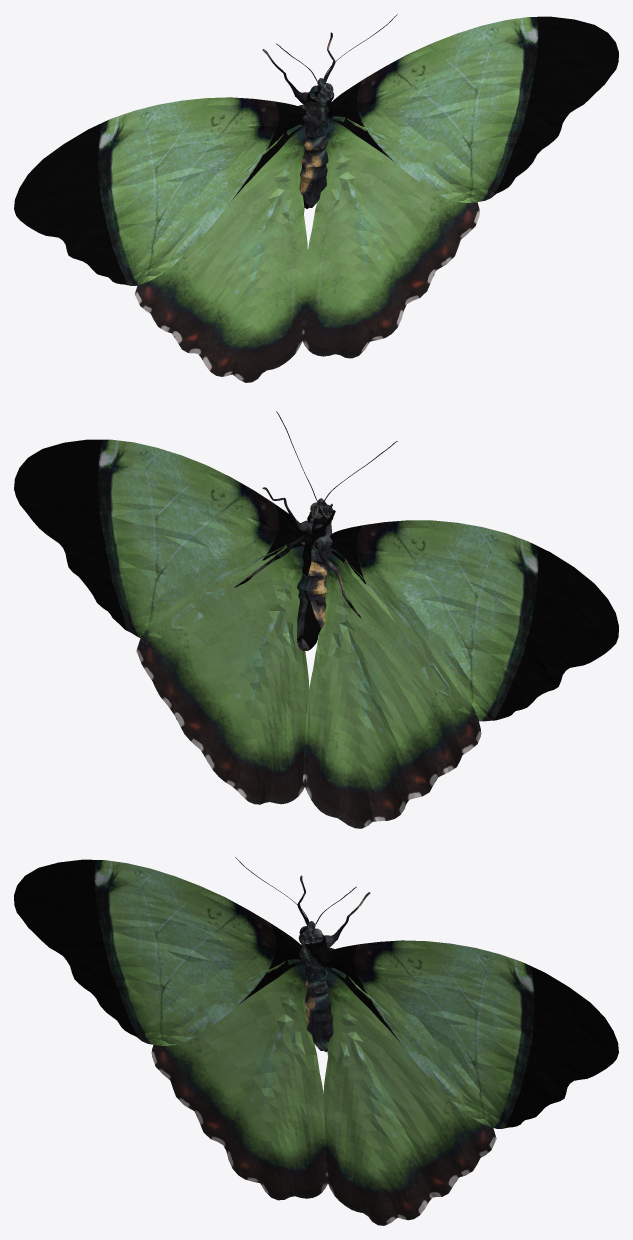
The model's file is butterfly.glb.
The picture shows the model from 3 angles, top to bottom: view 1: azimuth 30°, elevation 25°; view 2: azimuth 150°, elevation 25°; view 3: azimuth 330°, elevation 25°; orthographic projection.
Parts seen in each view (by area): view 1: TW_Right, TW_Left, BW_Right, BW_Left, Body; view 2: TW_Left, TW_Right, BW_Left, BW_Right, Body; view 3: TW_Left, TW_Right, BW_Right, BW_Left, Body.
Part boxes in pixels (x1=…): TW_Right: x1=330, y1=16, x2=618, y2=202; TW_Left: x1=14, y1=97, x2=306, y2=285; BW_Right: x1=302, y1=116, x2=479, y2=358; BW_Left: x1=135, y1=124, x2=307, y2=382; Body: x1=262, y1=14, x2=397, y2=208; TW_Left: x1=329, y1=520, x2=618, y2=721; TW_Right: x1=14, y1=439, x2=304, y2=638; BW_Left: x1=303, y1=547, x2=481, y2=828; BW_Right: x1=136, y1=542, x2=310, y2=804; Body: x1=234, y1=411, x2=397, y2=650; TW_Left: x1=14, y1=859, x2=302, y2=1045; TW_Right: x1=326, y1=940, x2=618, y2=1128; BW_Right: x1=323, y1=967, x2=496, y2=1225; BW_Left: x1=151, y1=959, x2=327, y2=1200; Body: x1=235, y1=857, x2=370, y2=1051.
Size of the model in its own units: 9.33 by 5.39 by 1.07.
3 materials, 3 textured.
